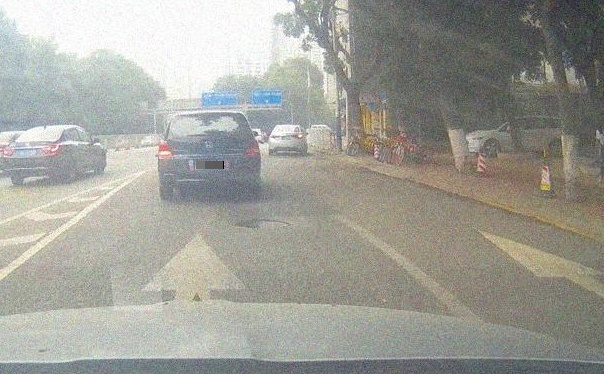L_light: (158, 140, 173, 159), (3, 145, 13, 156)
R_light: (245, 140, 260, 156), (43, 144, 61, 155)
T_light: (201, 113, 217, 116), (37, 128, 50, 131)
day-left: (157, 110, 260, 196)
day-no: (3, 127, 66, 184)
plate_1: (196, 161, 224, 169)
